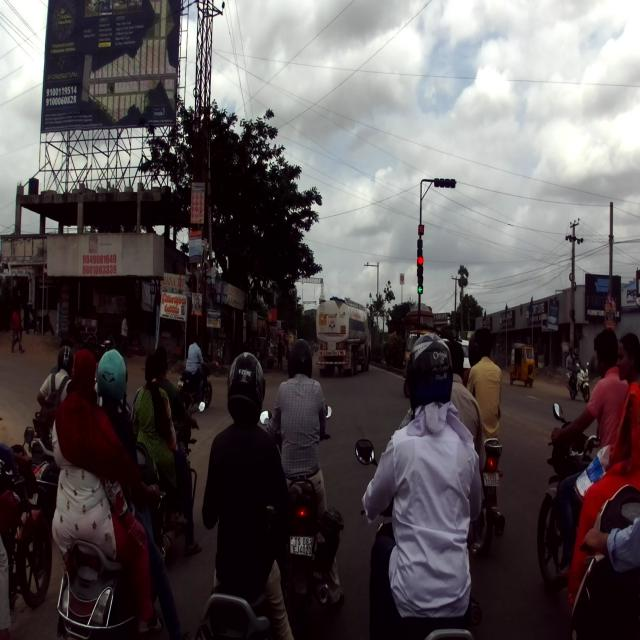motorcycle_Hero: (258, 404, 345, 638), (536, 400, 603, 596), (470, 436, 505, 554)
scooter: (56, 447, 166, 639)
